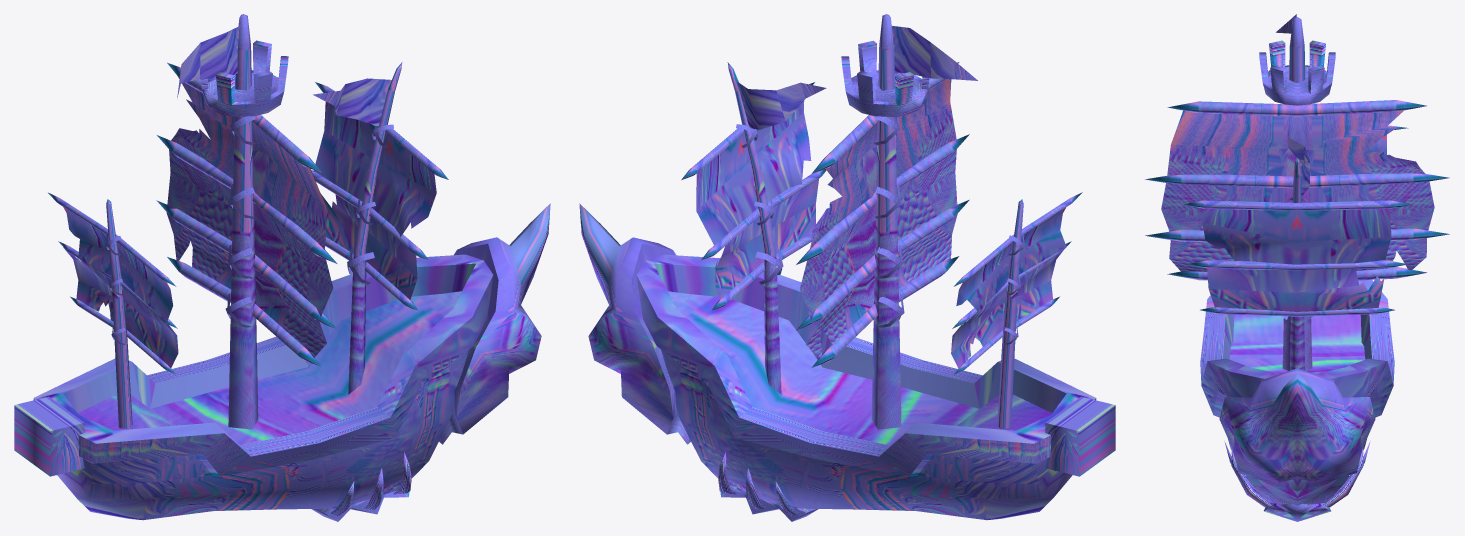
The model's file is 041S3_Effect.fbx.
3 renders of one model, left to right at view 1: azimuth 30°, elevation 25°; view 2: azimuth 150°, elevation 25°; view 3: azimuth 270°, elevation 25°, orthographic. The views are drawn at different scales.
Parts seen in each view (by area): view 1: ChuanZhang_Chuan; view 2: ChuanZhang_Chuan; view 3: ChuanZhang_Chuan.
Part boxes in pixels (x1=…): ChuanZhang_Chuan: x1=14, y1=14, x2=550, y2=521; ChuanZhang_Chuan: x1=579, y1=14, x2=1115, y2=521; ChuanZhang_Chuan: x1=1145, y1=14, x2=1449, y2=521.
Size of the model in its own units: 60.51 by 58.34 by 36.06.
1 material, 1 textured.
